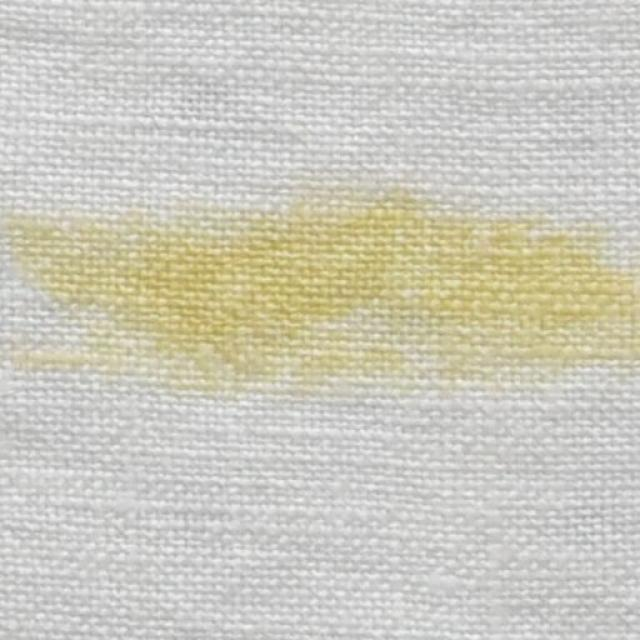Stain: (5, 196, 640, 391)
